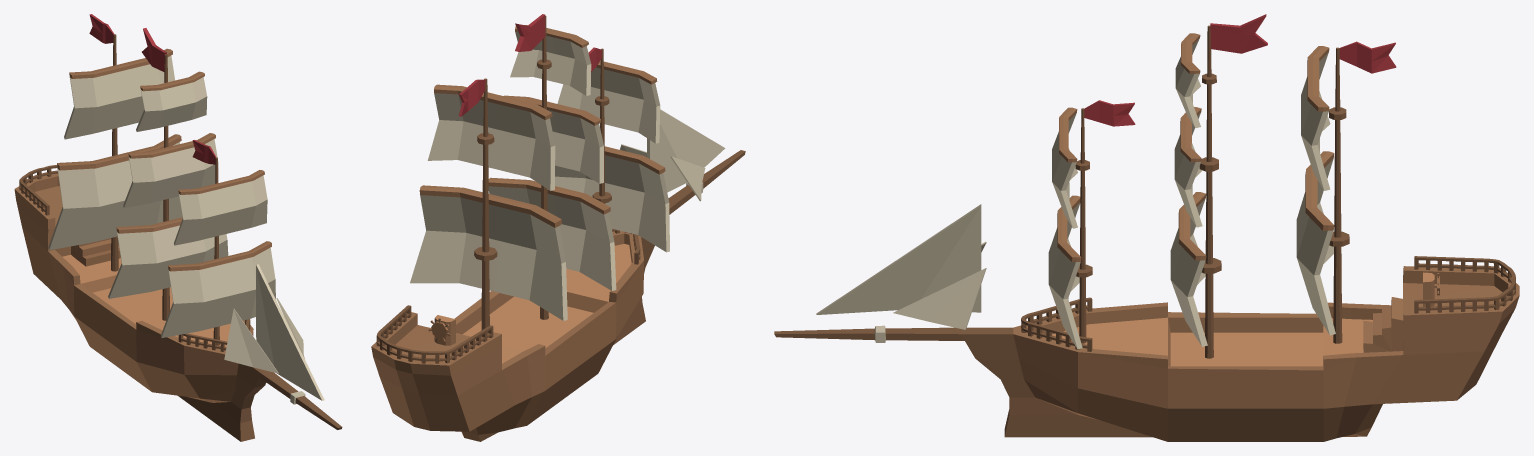
The model's file is ship.fbx.
The picture shows the model from 3 angles, left to right: view 1: azimuth 30°, elevation 25°; view 2: azimuth 150°, elevation 25°; view 3: azimuth 270°, elevation 25°; orthographic projection. The views are drawn at different scales.
Visible parts, largest first — view 1: BigShip, BackSail, MidleSail, Front Sail; view 2: BigShip, BackSail, MidleSail, Front Sail; view 3: BigShip, BackSail, MidleSail, Front Sail.
Part boxes in pixels (x1,y1,x2,y2): BigShip: (14,14,342,441); BackSail: (48,48,182,250); MidleSail: (108,71,228,298); Front Sail: (160,170,275,337); BigShip: (371,14,745,441); BackSail: (410,84,567,320); MidleSail: (488,25,616,290); Front Sail: (555,61,669,252); BigShip: (774,14,1519,441); BackSail: (1296,46,1335,335); MidleSail: (1170,33,1207,346); Front Sail: (1048,107,1082,349).
Size of the model in its own units: 170 by 395 by 638.
